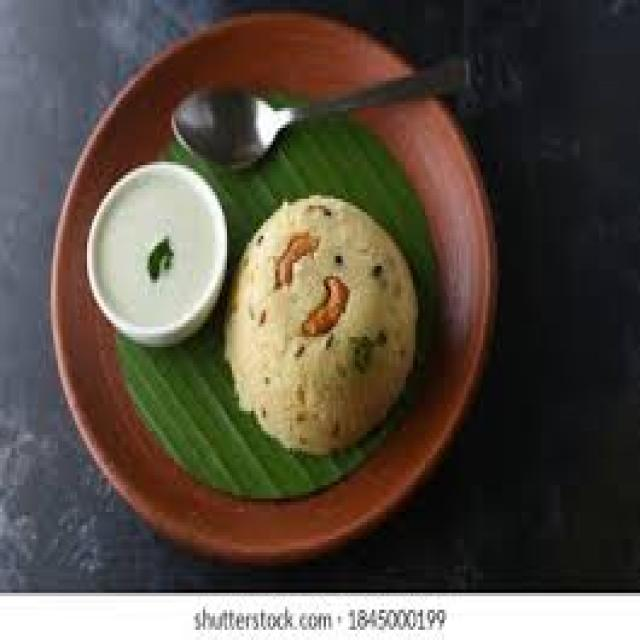UPMA: (230, 194, 417, 459)
